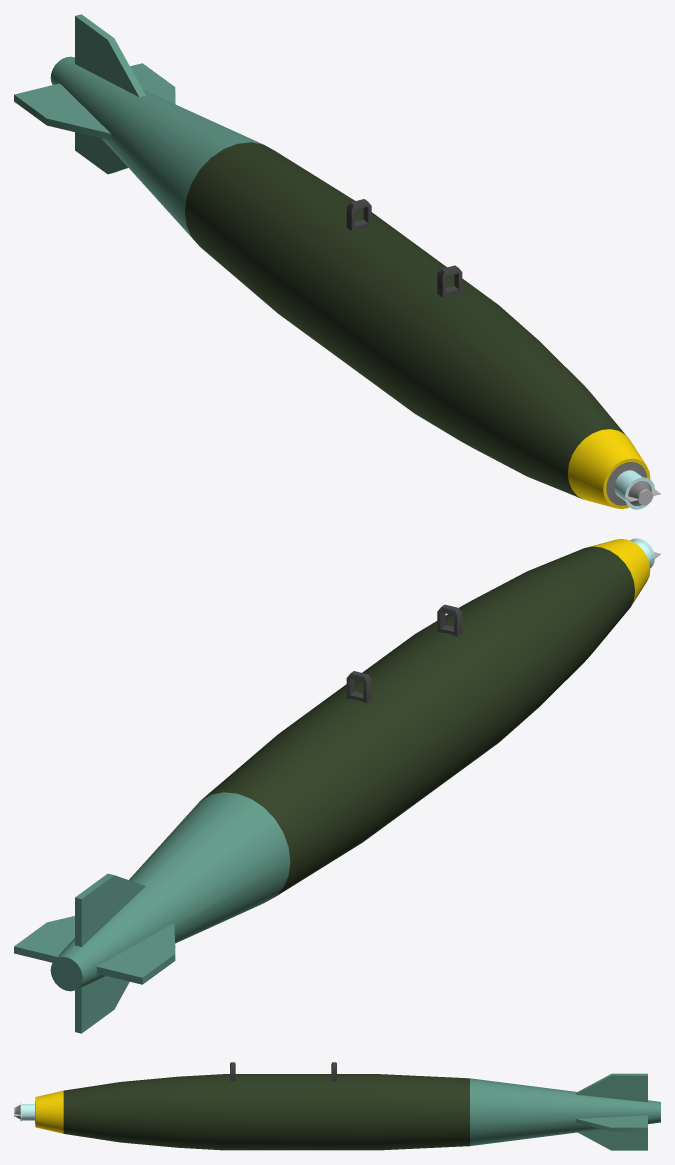
Rendered from MK-84 LDGP.glb.
The picture shows the model from 3 angles, top to bottom: view 1: azimuth 30°, elevation 25°; view 2: azimuth 150°, elevation 25°; view 3: azimuth 270°, elevation 25°; orthographic projection. The views are drawn at different scales.
Visible parts, largest first — view 1: Mk-82 Standard Tail; view 2: Mk-82 Standard Tail; view 3: Mk-82 Standard Tail.
Boxes of the visible parts, x1,y1,x2,y2 form: Mk-82 Standard Tail: [14, 14, 660, 509]; Mk-82 Standard Tail: [14, 538, 660, 1033]; Mk-82 Standard Tail: [14, 1062, 660, 1150].
Bounding box in the file's own units: 0.4935 × 0.5624 × 3.85.
2 materials, 2 textured.
